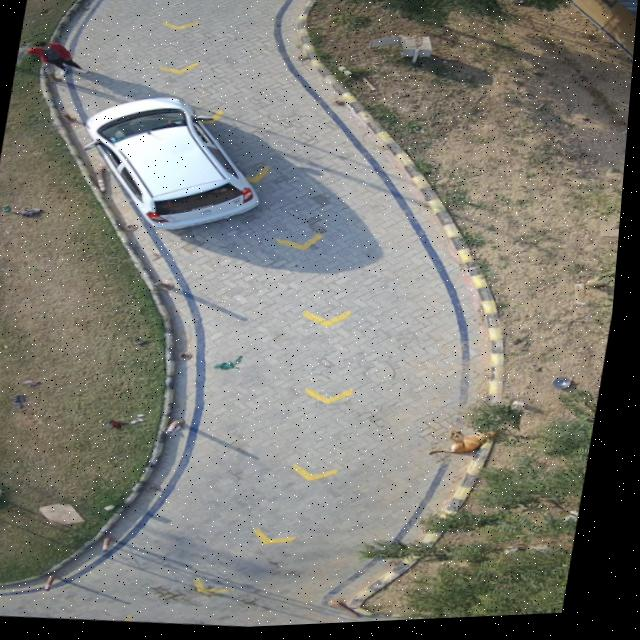car: (88, 97, 263, 230)
